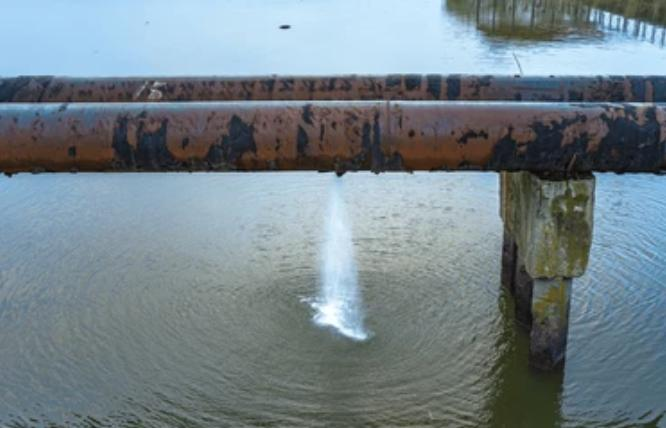pipe burst: (321, 170, 360, 330)
